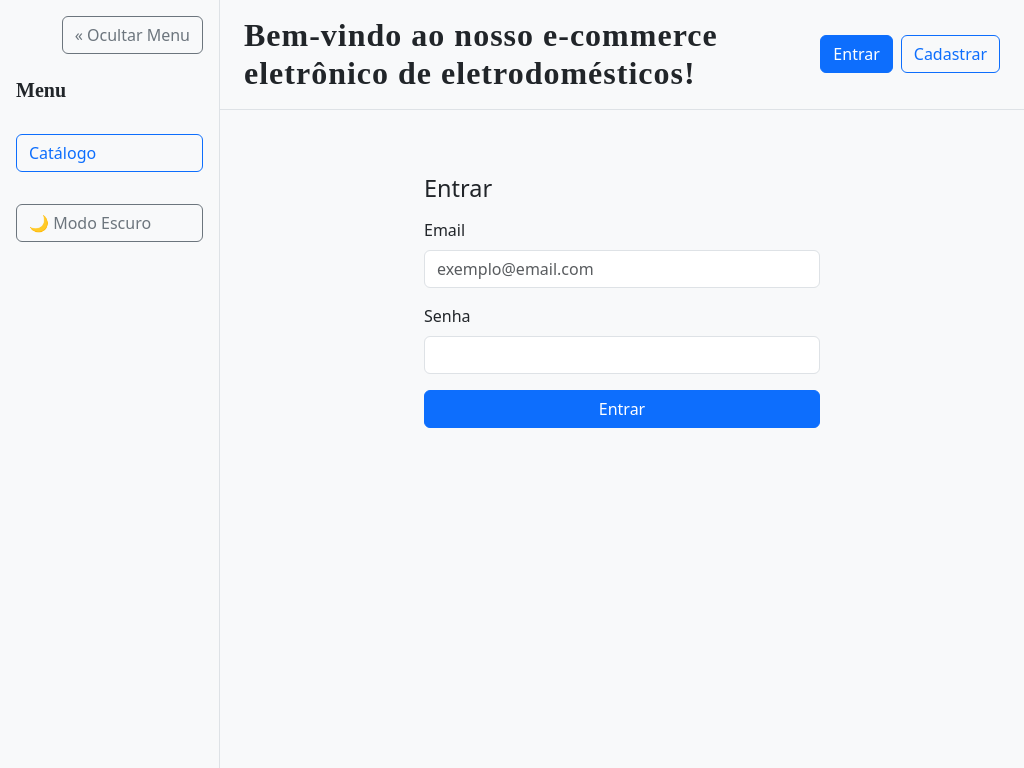
Scenario: Login de Usuário › deve mostrar erro com credenciais inválidas
The width and height of the screenshot is (1024, 768).
In the field named "email": (622, 269) 424,250 -> 820,288, type "admin@exemplo.com"
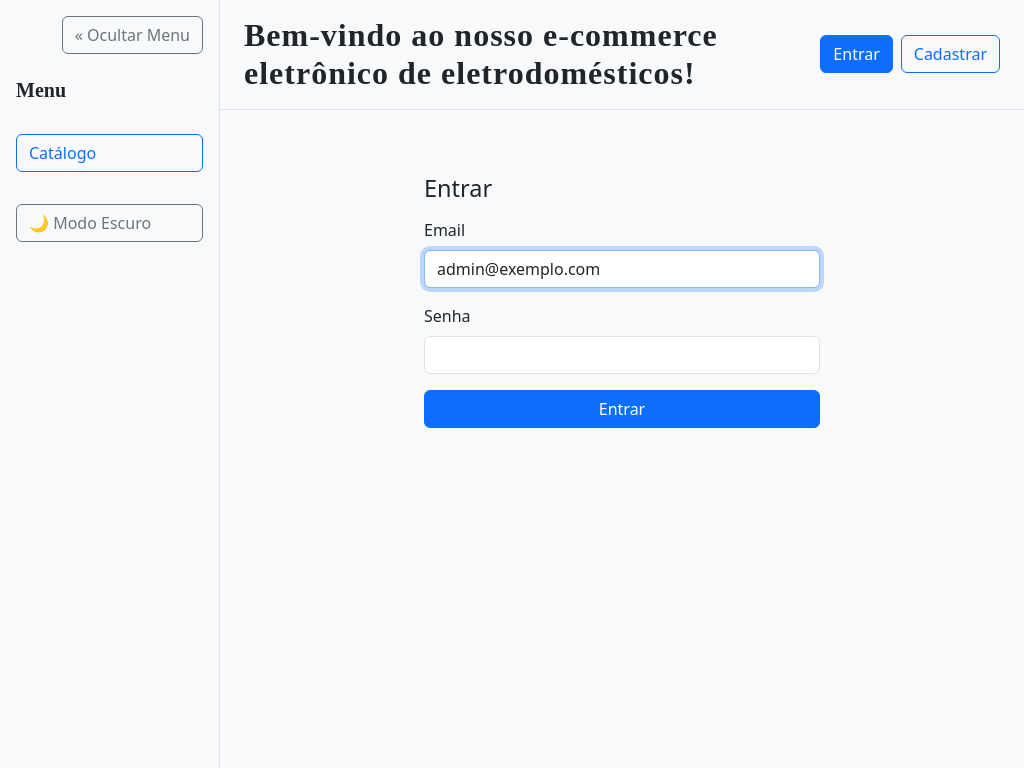
In the password field named "senha": (622, 355) 424,336 -> 820,374, type "senhaerrada"
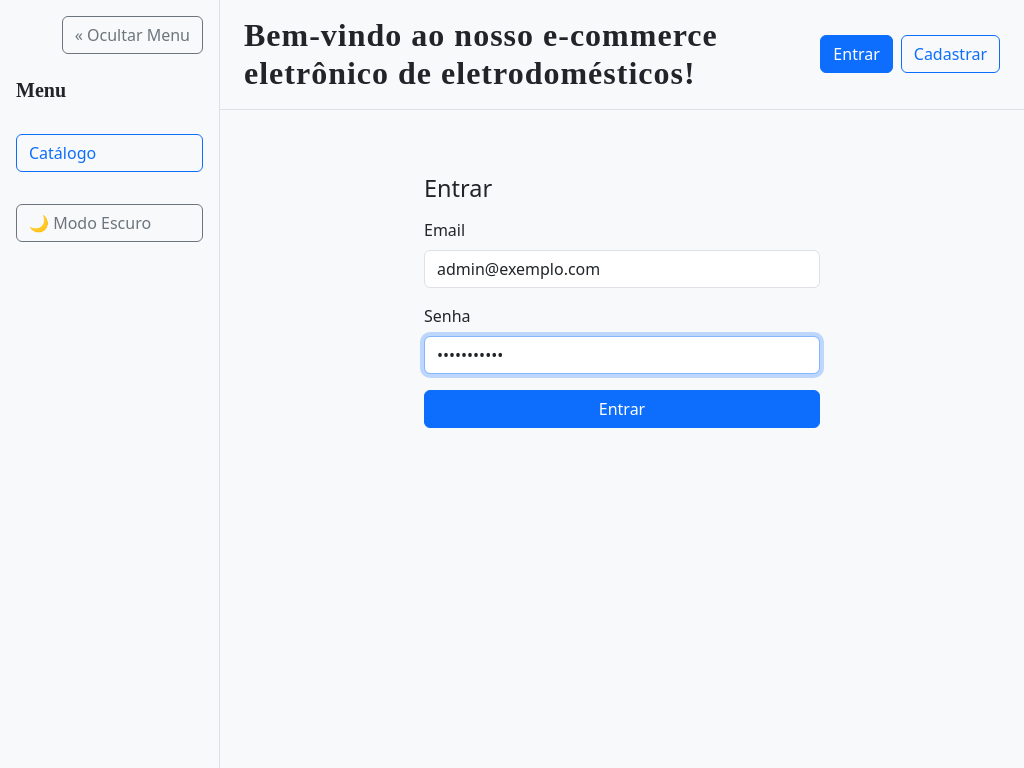
Click the button named "submit": (622, 409) 424,390 -> 820,428
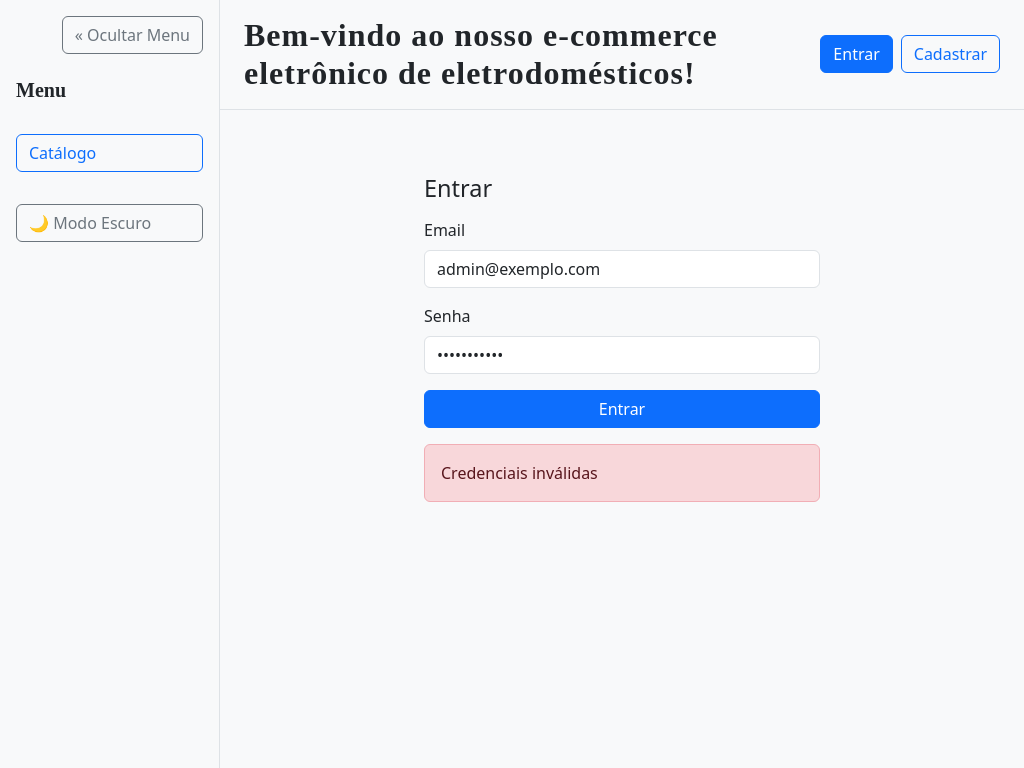
Result: the text "Credenciais inválidas" is shown at 424,444 -> 820,502
